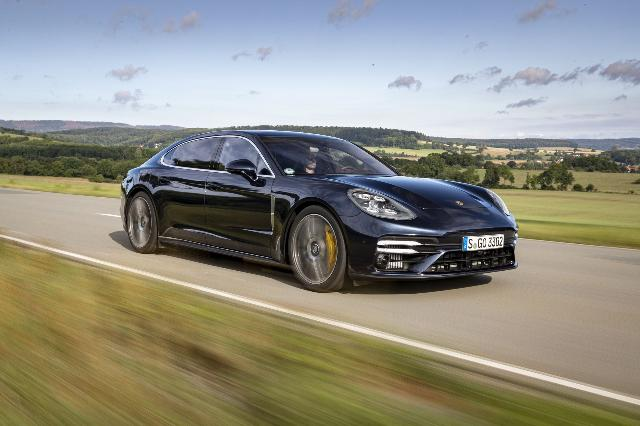porsche: (120, 130, 518, 292)
